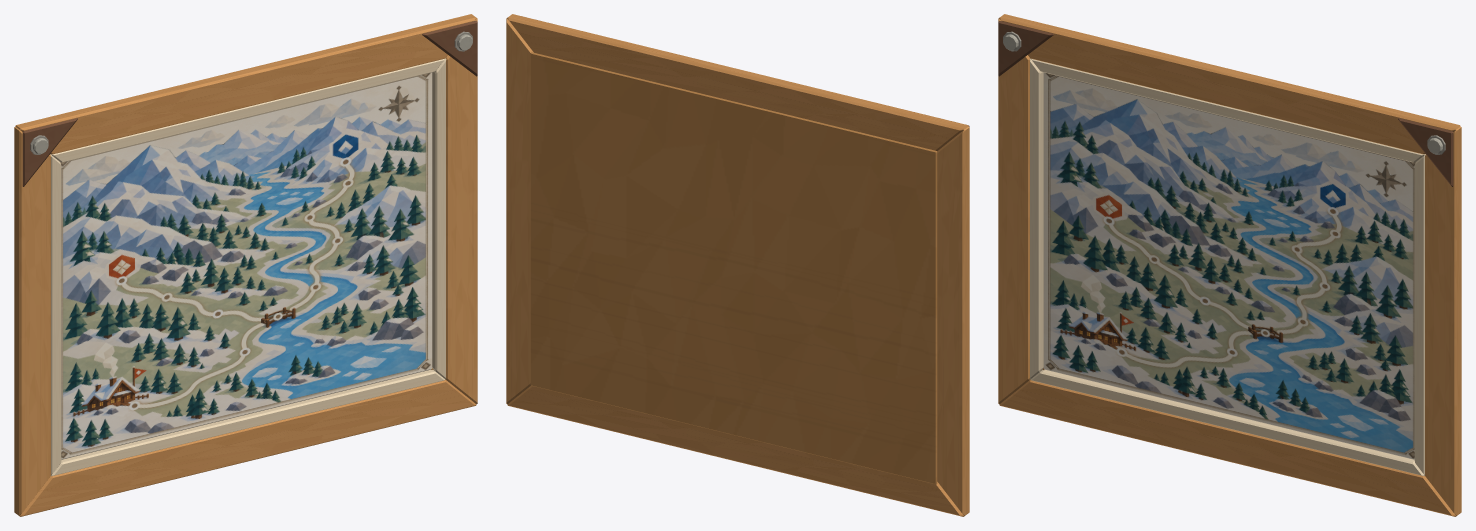
The model's file is 07_PictureFrame.fbx.
3 views of the same model, side by side, from view 1: azimuth 30°, elevation 25°; view 2: azimuth 150°, elevation 25°; view 3: azimuth 330°, elevation 25° (orthographic).
Parts seen in each view (by area): view 1: 07_PictureFrame; view 2: 07_PictureFrame; view 3: 07_PictureFrame.
Part boxes in pixels (x1,y1,x2,y2): 07_PictureFrame: [14, 14, 477, 516]; 07_PictureFrame: [506, 14, 969, 516]; 07_PictureFrame: [998, 14, 1461, 516].
Size of the model in its own units: 221 by 179 by 10.66.
Materials: 1 (1 with a texture image).
